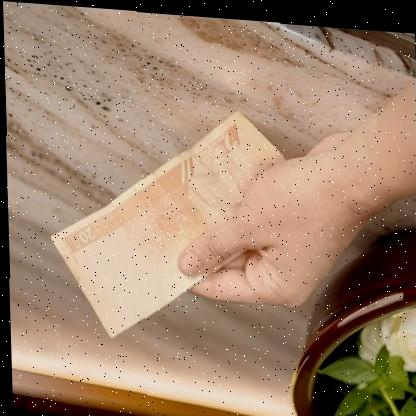twenty-back-vef: (46, 95, 291, 349)
